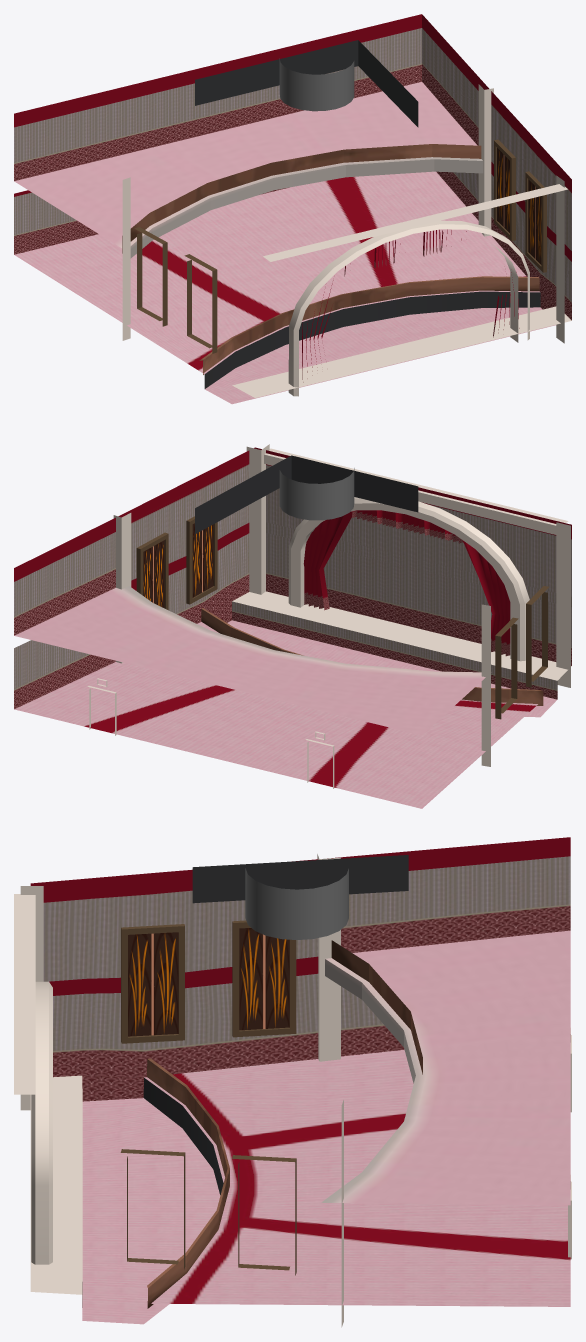
Rendered from TheatreBuilding_OLD.glb.
The picture shows the model from 3 angles, top to bottom: view 1: azimuth 30°, elevation 25°; view 2: azimuth 150°, elevation 25°; view 3: azimuth 270°, elevation 25°; orthographic projection. The views are drawn at different scales.
Parts seen in each view (by area): view 1: building_geo; view 2: building_geo; view 3: building_geo.
Boxes of the visible parts, <box> form: building_geo: <box>14,14,571,404</box>; building_geo: <box>14,444,571,808</box>; building_geo: <box>14,837,571,1327</box>.
Size of the model in its own units: 3001 by 1748 by 2574.
1 material, 1 textured.
